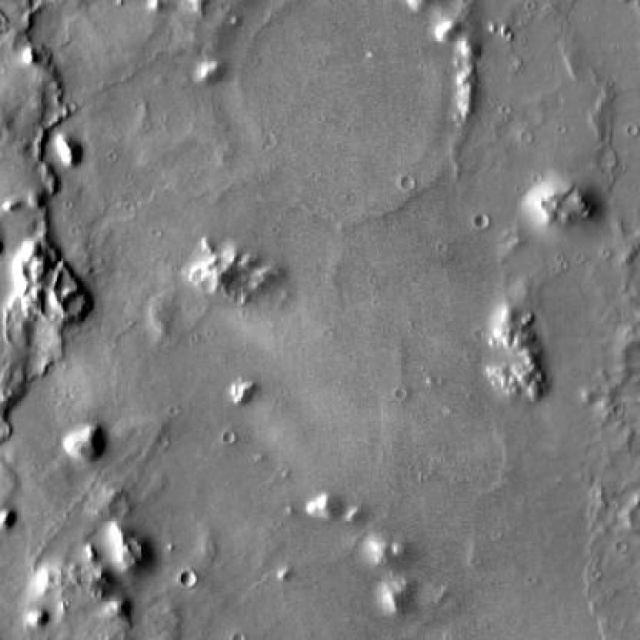crater: (222, 0, 487, 217), (180, 569, 197, 586)
